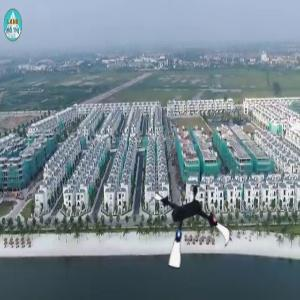drone: (146, 180, 238, 272)
